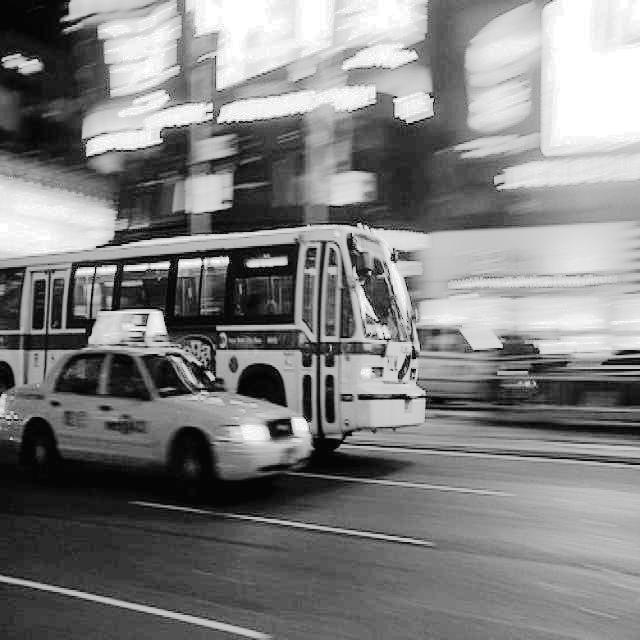Bus: (0, 222, 432, 476)
Car: (0, 338, 315, 519)
